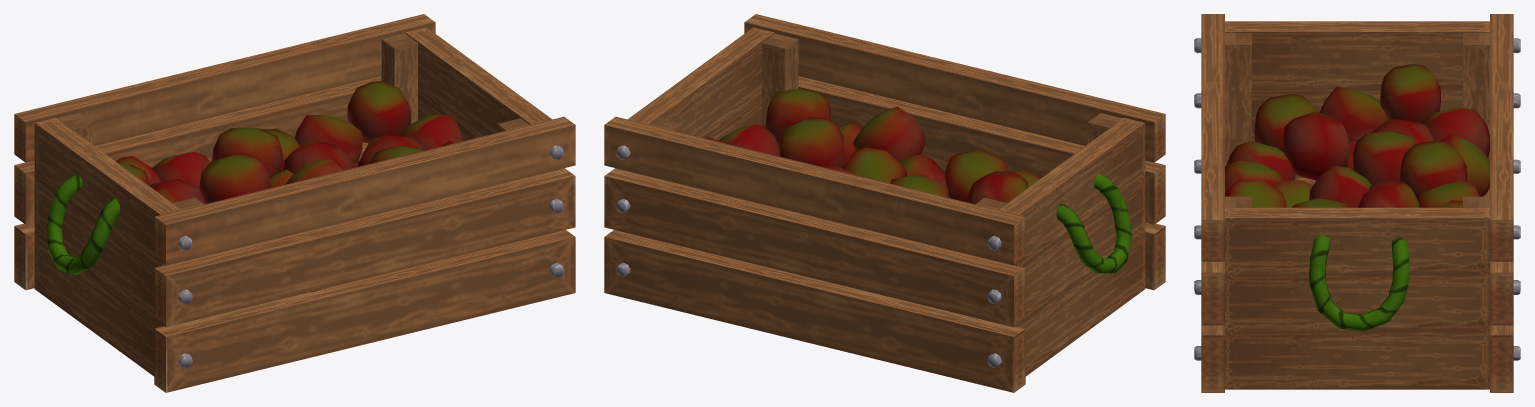
Rendered from FarmCrate_Apple.gltf.
3 views of the same model, side by side, from view 1: azimuth 30°, elevation 25°; view 2: azimuth 150°, elevation 25°; view 3: azimuth 270°, elevation 25° (orthographic). The views are drawn at different scales.
Parts seen in each view (by area): view 1: FarmCrate_Apple; view 2: FarmCrate_Apple; view 3: FarmCrate_Apple.
Part boxes in pixels (x1=…): FarmCrate_Apple: x1=14, y1=14, x2=575, y2=392; FarmCrate_Apple: x1=604, y1=14, x2=1165, y2=392; FarmCrate_Apple: x1=1194, y1=14, x2=1520, y2=392.
Size of the model in its own units: 0.7138 by 0.2438 by 0.4142.
Materials: 3 (3 with a texture image).
